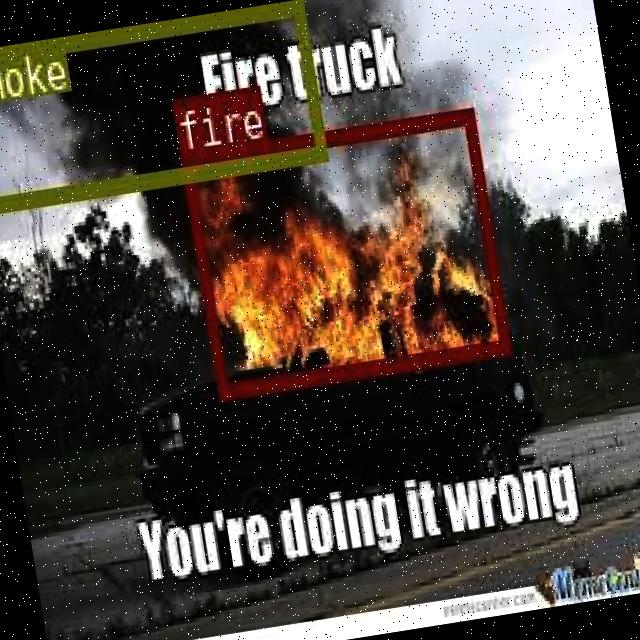fire: (178, 105, 509, 397)
smoke: (0, 0, 323, 210)
